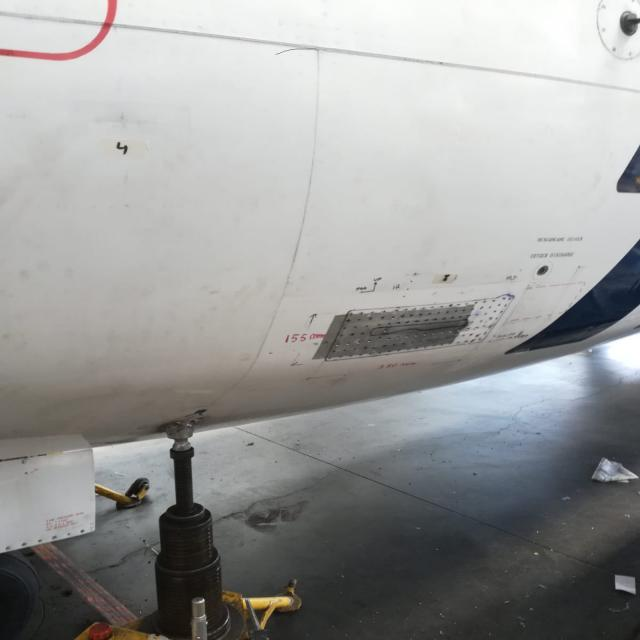crack: (267, 43, 323, 62)
